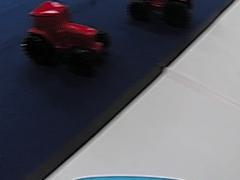Tracktor: (21, 2, 112, 65), (127, 1, 192, 28)
